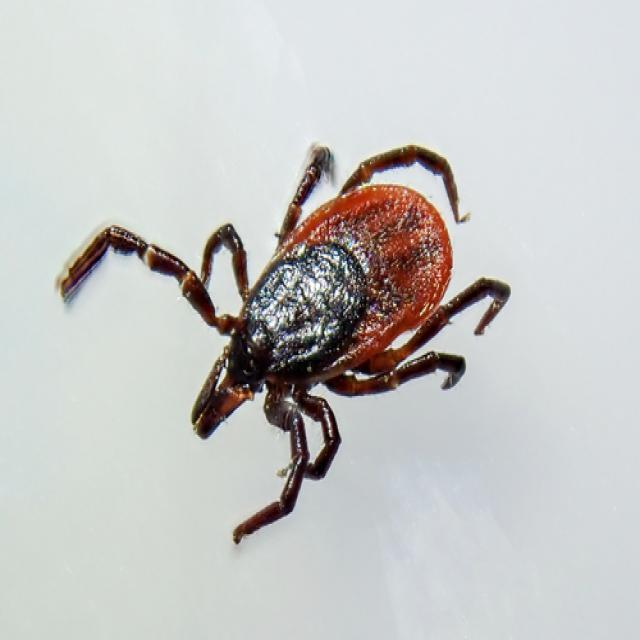Ixodes Ricinus-F: (54, 143, 513, 544)
